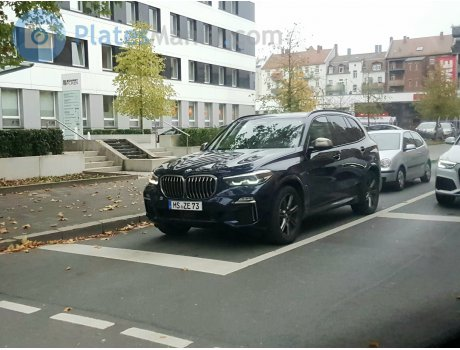License Plates: (168, 198, 209, 212)
